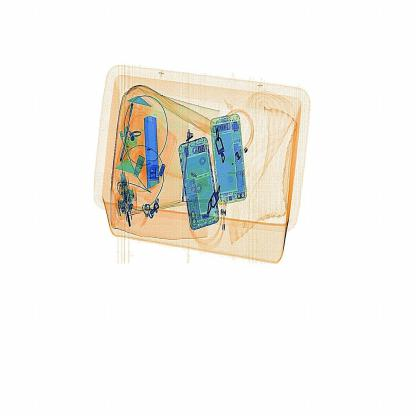pliers: (137, 109, 160, 206)
